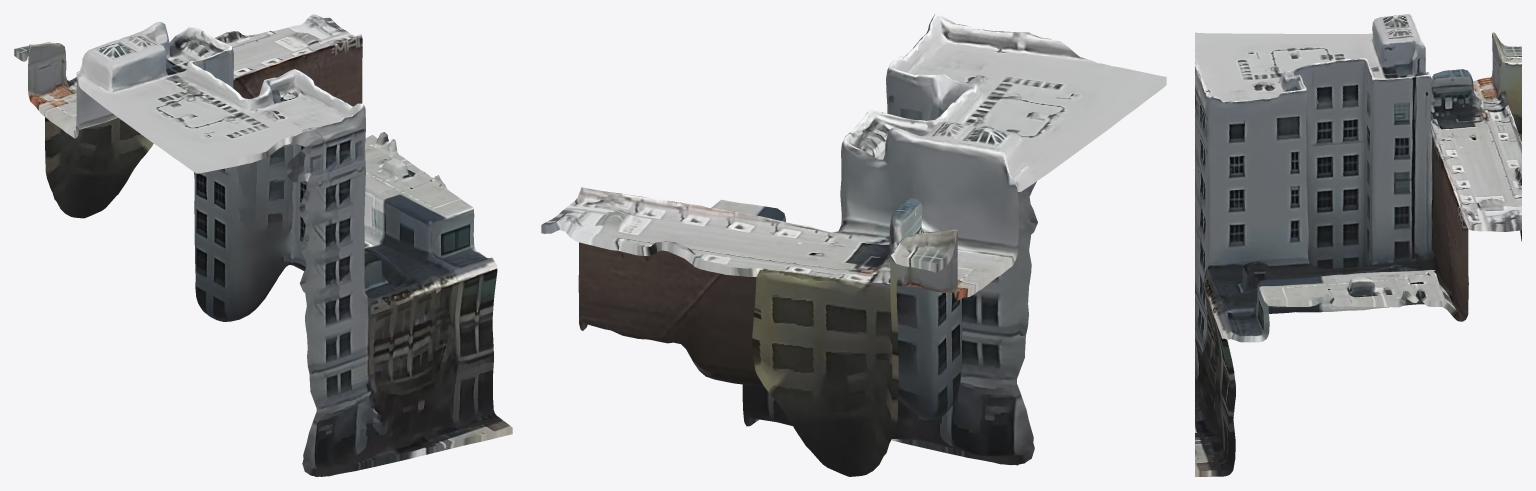
The model's file is z20-167781-405226-h0-yup-uvflip-v3-world.glb.
3 views of the same model, side by side, from view 1: azimuth 30°, elevation 25°; view 2: azimuth 150°, elevation 25°; view 3: azimuth 270°, elevation 25° (orthographic). The views are drawn at different scales.
Bounding box in the file's own units: 30.16 × 34.44 × 30.32.
Materials: 1 (1 with a texture image).
